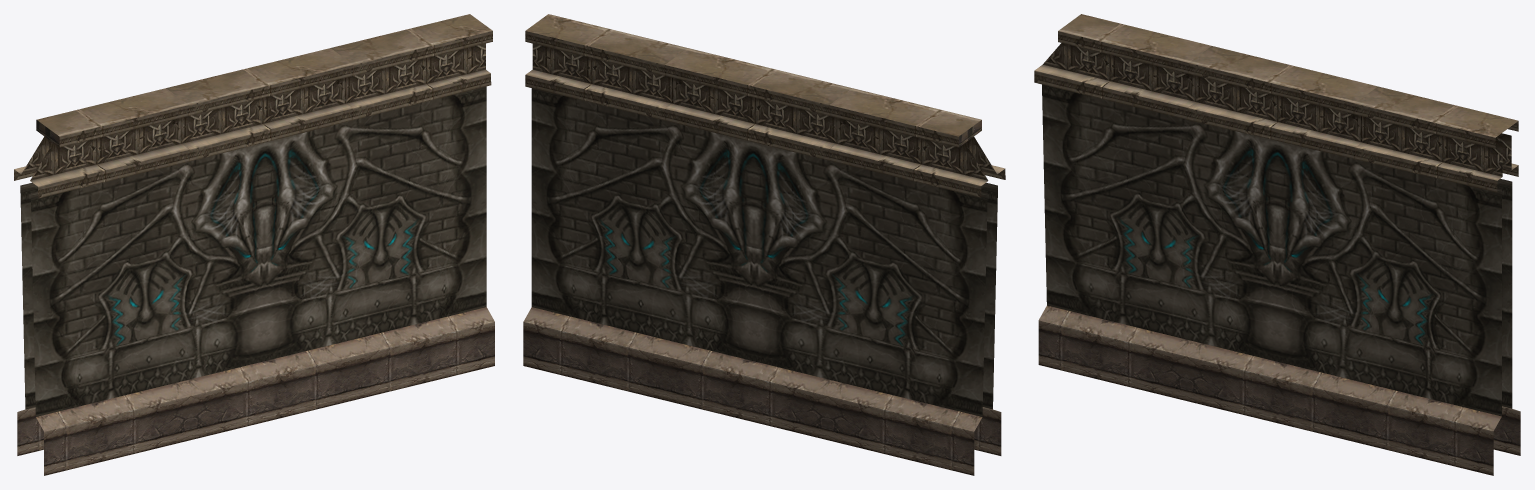
Rendered from blsd_bsqiangm_03.FBX.
The picture shows the model from 3 angles, left to right: view 1: azimuth 30°, elevation 25°; view 2: azimuth 150°, elevation 25°; view 3: azimuth 330°, elevation 25°; orthographic projection.
Visible parts, largest first — view 1: blsd_bsqiangm_03; view 2: blsd_bsqiangm_03; view 3: blsd_bsqiangm_03.
Boxes of the visible parts, x1,y1,x2,y2 form: blsd_bsqiangm_03: [14, 14, 494, 475]; blsd_bsqiangm_03: [523, 14, 1005, 475]; blsd_bsqiangm_03: [1034, 14, 1520, 475].
Size of the model in its own units: 1331 by 931 by 136.
